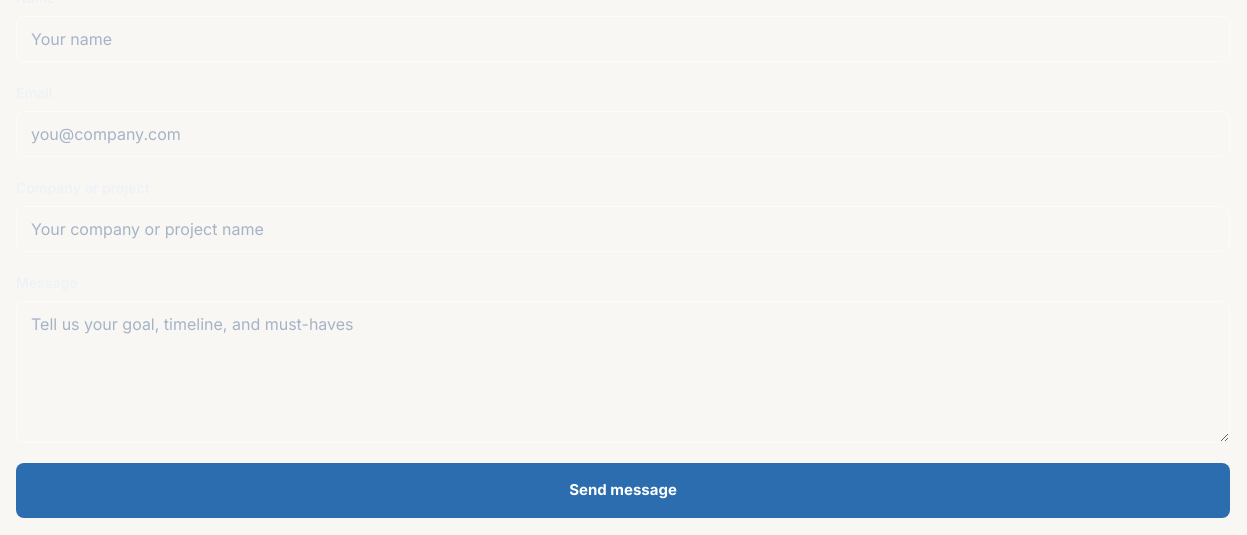
Contact › disables inputs and shows Sending... while pending
The width and height of the screenshot is (1247, 535).
Type " Ada Lovelace " into the field labelled "Name" at (623, 39), box [16,16,1230,62]
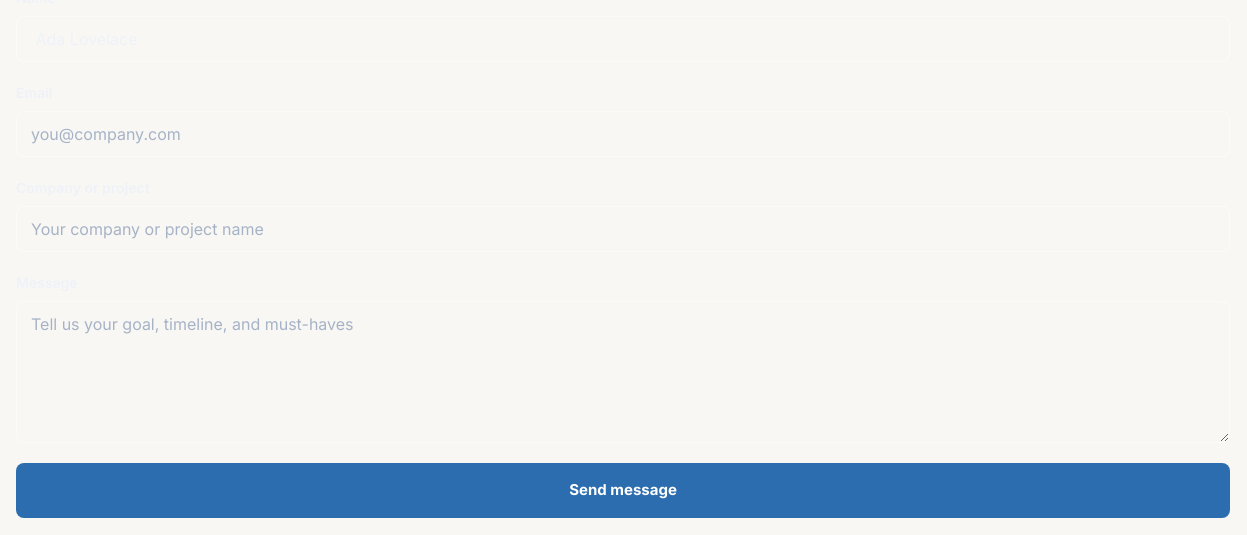
Type " ada@example.com " into the field labelled "Email" at (623, 134), box [16,111,1230,157]
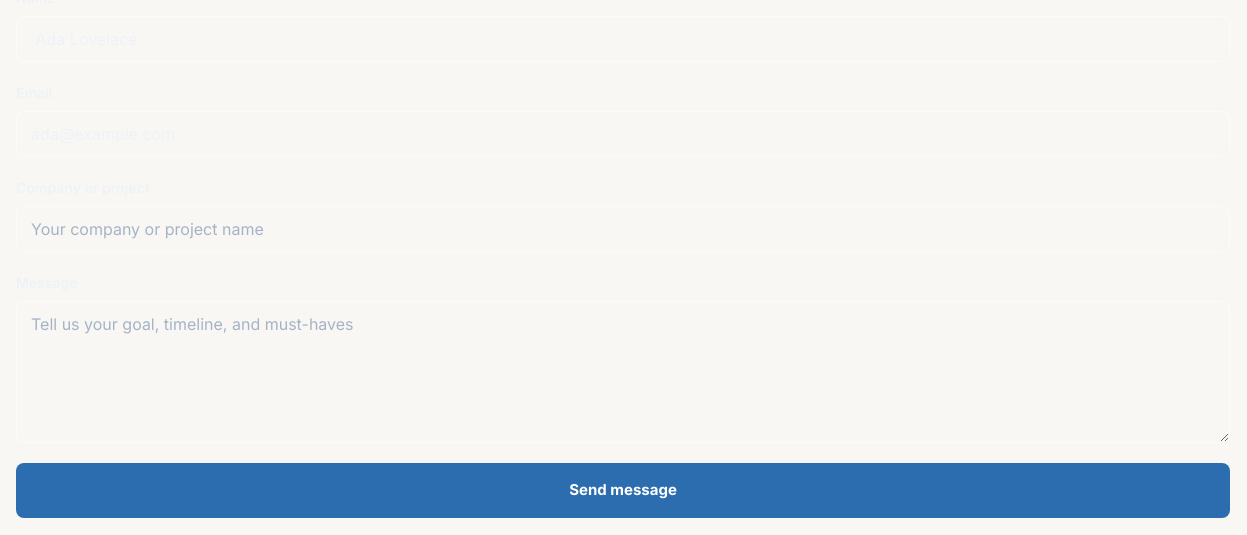
Type "Acme" into the field labelled "Company or project" at (623, 229), box [16,206,1230,252]
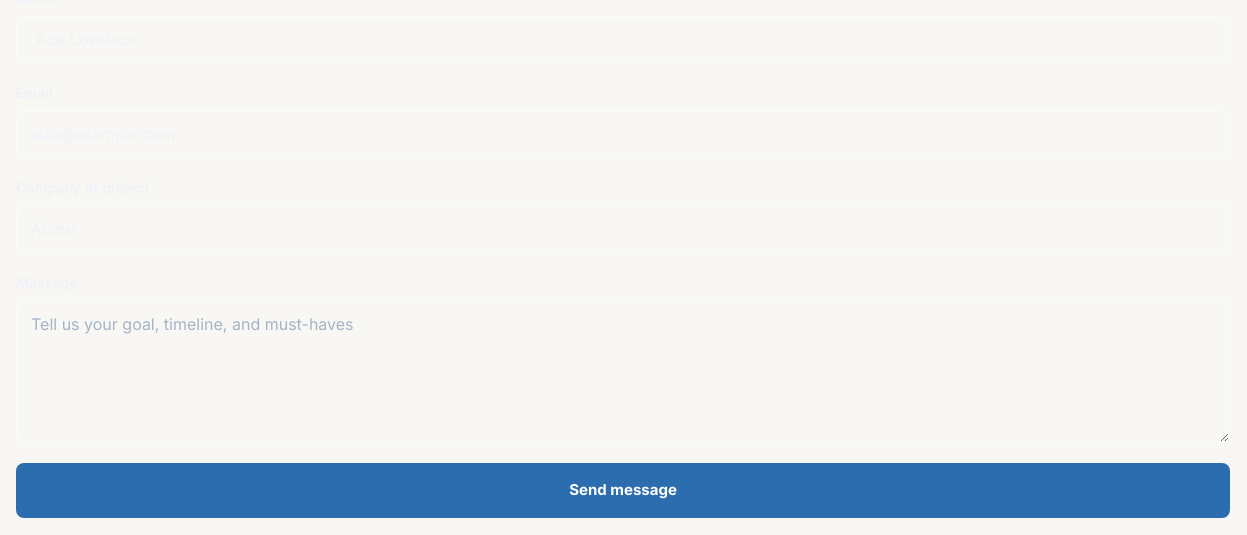
Type " Build a portal " into the text box labelled "Message" at (623, 372), box [16,301,1230,443]
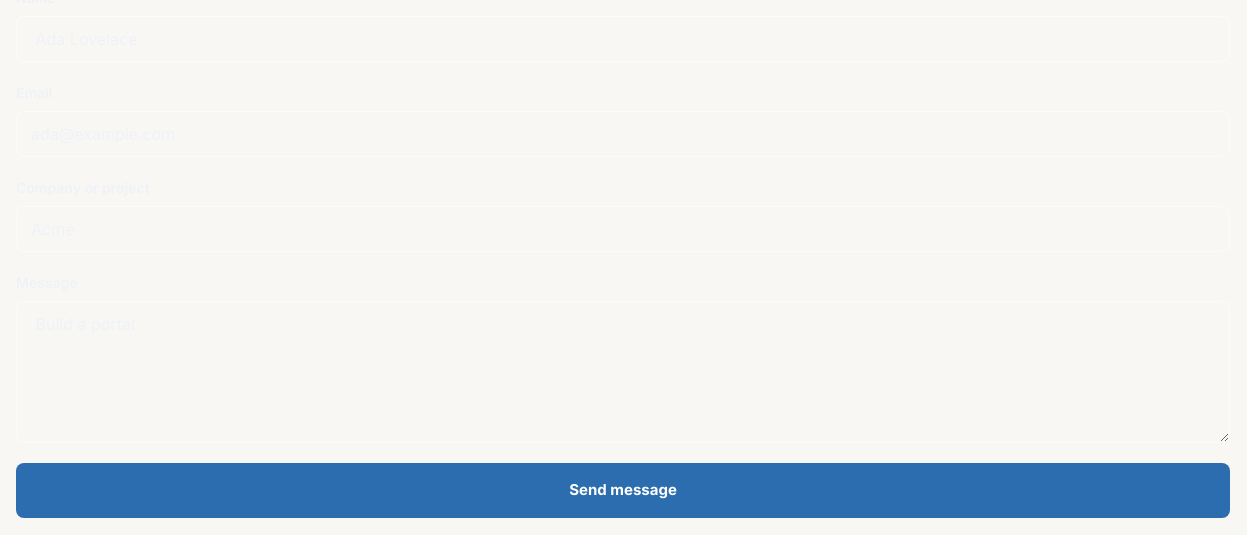
Click the button "Send message" at (623, 490), box [16,463,1230,518]
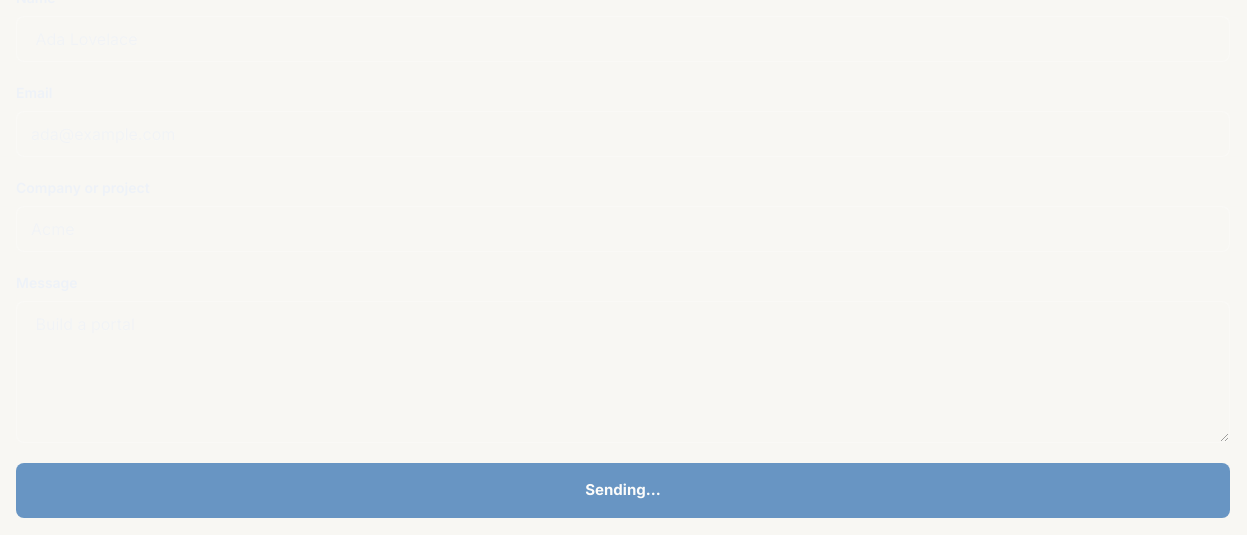
Check: the text box labelled "Message" is disabled, box [16,301,1230,443]
Check: the button "Sending..." is disabled, box [16,463,1230,518]
